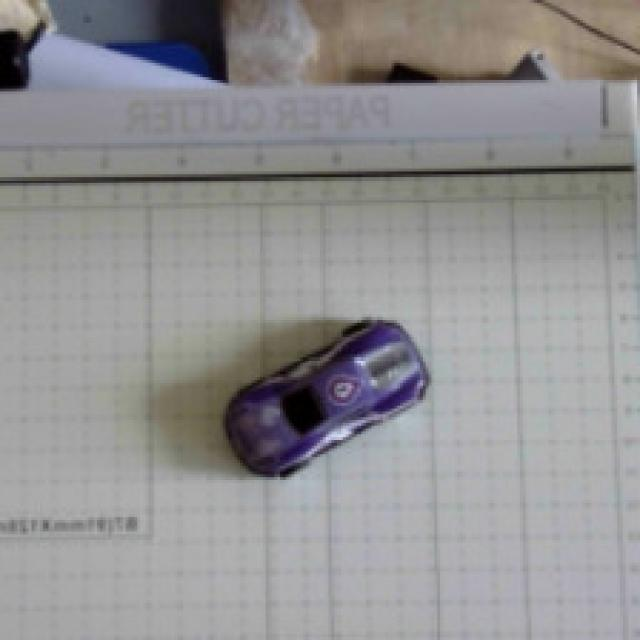Purple Car: (203, 276, 476, 542)
